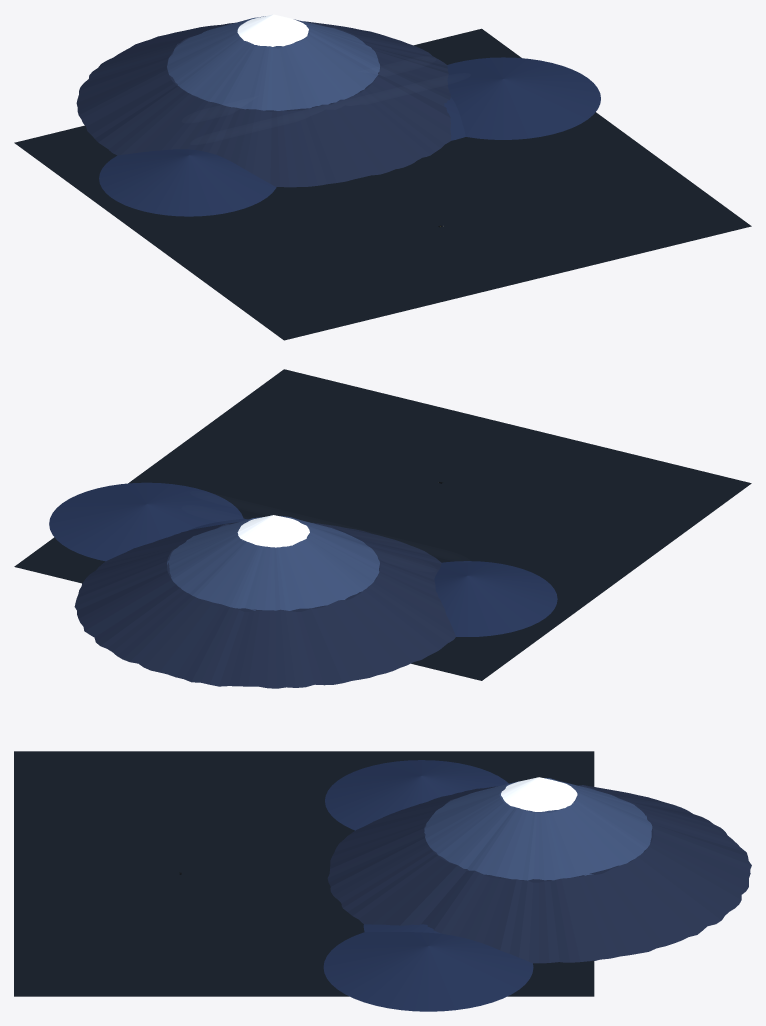
Rendered from Fuji_McDonalds.glb.
3 renders of one model, top to bottom at view 1: azimuth 30°, elevation 25°; view 2: azimuth 150°, elevation 25°; view 3: azimuth 270°, elevation 25°, orthographic. The views are drawn at different scales.
Parts seen in each view (by area): view 1: Ground_wet_asphalt_foreground, Fuji_foothill_below_mist, Fuji_slope_above_mist, Far_hill_silhouette_04, Far_hill_silhouette_01, Fuji_snowcap_upper_cone; view 2: Ground_wet_asphalt_foreground, Fuji_foothill_below_mist, Fuji_slope_above_mist, Far_hill_silhouette_04, Far_hill_silhouette_01, Fuji_snowcap_upper_cone; view 3: Ground_wet_asphalt_foreground, Fuji_foothill_below_mist, Fuji_slope_above_mist, Far_hill_silhouette_04, Far_hill_silhouette_01, Fuji_snowcap_upper_cone, Far_hill_silhouette_03.
Part boxes in pixels (bbox=[...]): Ground_wet_asphalt_foreground: bbox=[14, 28, 751, 340]; Fuji_foothill_below_mist: bbox=[76, 21, 451, 187]; Fuji_slope_above_mist: bbox=[167, 16, 379, 110]; Far_hill_silhouette_04: bbox=[447, 57, 600, 139]; Far_hill_silhouette_01: bbox=[99, 149, 276, 216]; Fuji_snowcap_upper_cone: bbox=[237, 14, 308, 46]; Ground_wet_asphalt_foreground: bbox=[14, 369, 751, 680]; Fuji_foothill_below_mist: bbox=[74, 522, 455, 688]; Fuji_slope_above_mist: bbox=[167, 516, 379, 610]; Far_hill_silhouette_04: bbox=[49, 482, 243, 561]; Far_hill_silhouette_01: bbox=[434, 561, 557, 636]; Fuji_snowcap_upper_cone: bbox=[237, 515, 309, 547]; Ground_wet_asphalt_foreground: bbox=[14, 751, 594, 996]; Fuji_foothill_below_mist: bbox=[327, 785, 751, 963]; Fuji_slope_above_mist: bbox=[424, 778, 652, 880]; Far_hill_silhouette_04: bbox=[323, 932, 533, 1011]; Far_hill_silhouette_01: bbox=[325, 760, 508, 830]; Fuji_snowcap_upper_cone: bbox=[501, 777, 577, 811]; Far_hill_silhouette_03: bbox=[363, 924, 441, 933].
Size of the model in its own units: 4460 by 777 by 5341.
